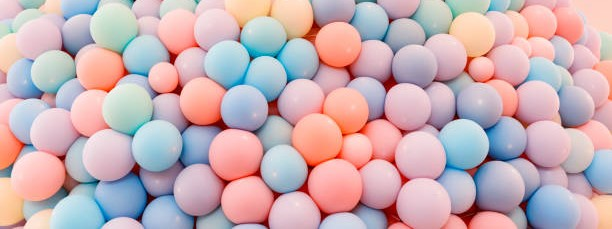Balloon: (309, 159, 363, 212), (473, 159, 525, 213), (82, 130, 137, 180), (11, 151, 66, 201), (394, 130, 447, 181), (396, 179, 450, 229), (131, 120, 181, 173), (440, 119, 489, 169), (101, 84, 155, 129), (89, 2, 138, 51), (384, 82, 433, 130), (209, 128, 258, 176), (174, 164, 219, 216), (528, 183, 578, 229), (261, 145, 307, 192), (315, 21, 361, 67), (222, 177, 270, 221), (96, 177, 147, 218), (220, 85, 266, 130), (526, 121, 570, 168), (269, 190, 322, 229), (181, 77, 224, 125), (358, 159, 400, 208), (323, 87, 368, 131), (31, 108, 76, 152), (204, 39, 246, 85), (450, 12, 495, 54), (51, 194, 105, 229), (456, 83, 502, 123), (75, 48, 122, 87), (241, 16, 286, 56), (392, 45, 438, 84), (29, 50, 72, 91), (516, 80, 558, 121), (194, 8, 239, 46), (278, 80, 323, 117), (157, 10, 197, 51), (246, 57, 285, 98), (489, 116, 524, 161), (16, 21, 60, 54), (559, 85, 594, 126), (494, 45, 530, 81), (384, 18, 425, 46), (340, 133, 371, 166), (148, 62, 179, 93), (469, 56, 494, 81)
